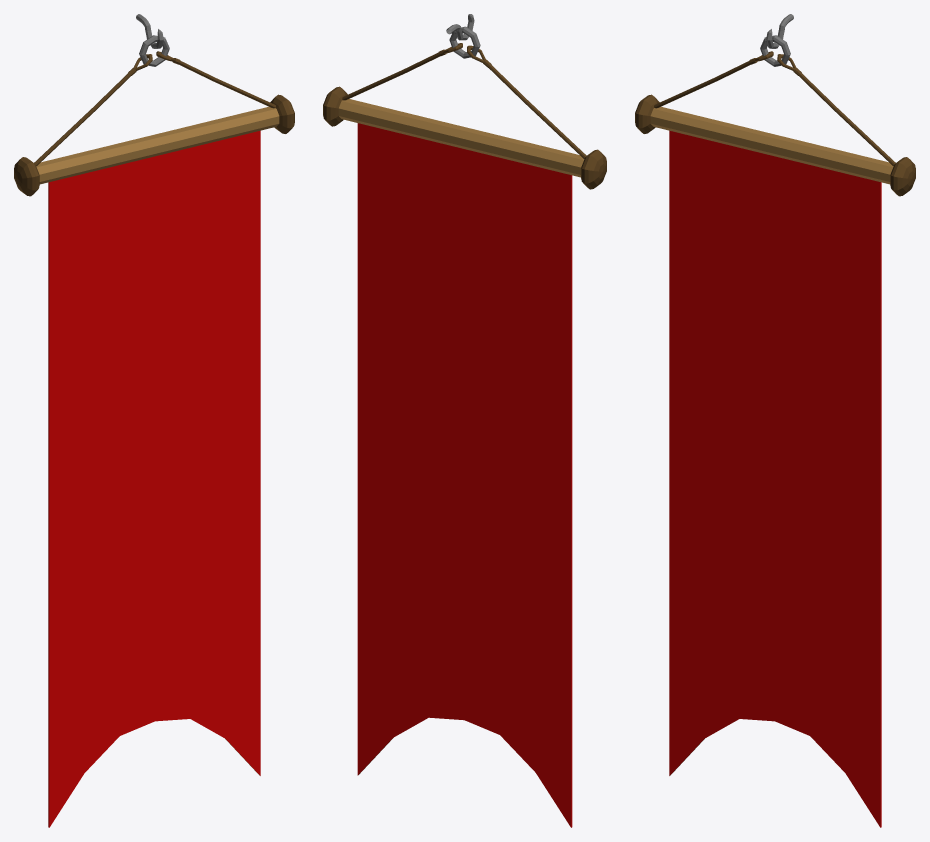
The model's file is Banner.fbx.
3 renders of one model, left to right at view 1: azimuth 30°, elevation 25°; view 2: azimuth 150°, elevation 25°; view 3: azimuth 330°, elevation 25°, orthographic.
Parts seen in each view (by area): view 1: Banner; view 2: Banner; view 3: Banner.
Part boxes in pixels (left/top/right/bottom): Banner: left=14, top=14, right=294, bottom=827; Banner: left=323, top=14, right=606, bottom=827; Banner: left=635, top=14, right=915, bottom=827.
Size of the model in its own units: 1.1 by 3 by 0.1768.
